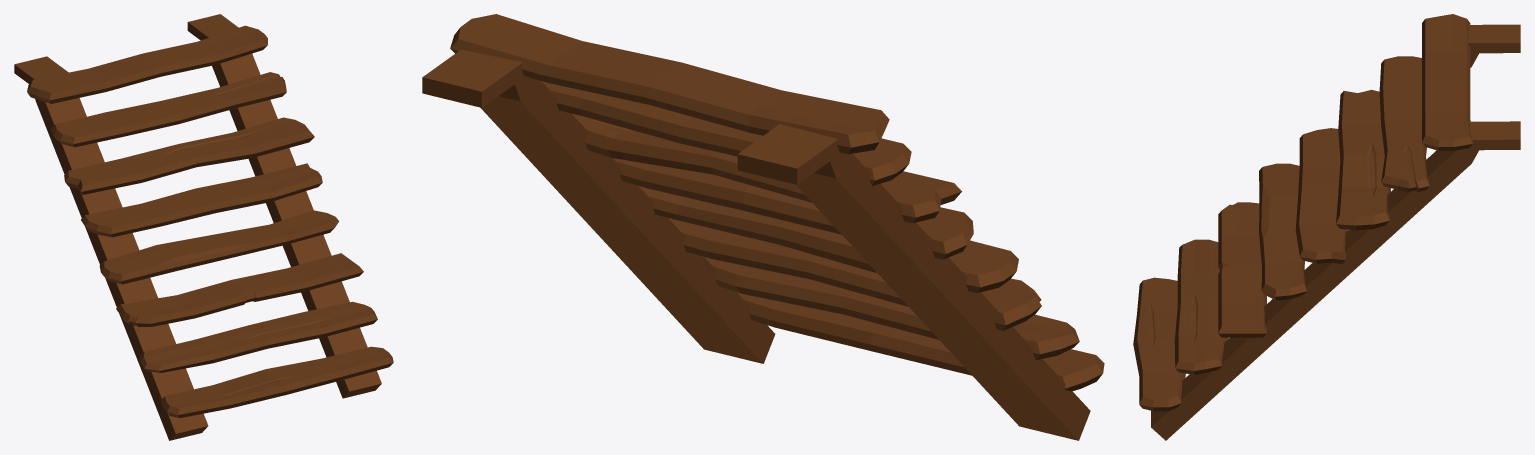
File: StairsWooden.fbx
3 renders of one model, left to right at view 1: azimuth 30°, elevation 25°; view 2: azimuth 150°, elevation 25°; view 3: azimuth 270°, elevation 25°, orthographic. The views are drawn at different scales.
Visible parts, largest first — view 1: StairsPlanks, StairsConstructionAngleBeams; view 2: StairsPlanks, StairsConstructionAngleBeams; view 3: StairsPlanks, StairsConstructionAngleBeams.
Boxes of the visible parts, x1=… form: StairsPlanks: x1=27, y1=25, x2=393, y2=418; StairsConstructionAngleBeams: x1=14, y1=14, x2=381, y2=440; StairsPlanks: x1=450, y1=14, x2=1104, y2=391; StairsConstructionAngleBeams: x1=422, y1=49, x2=1090, y2=440; StairsPlanks: x1=1133, y1=14, x2=1472, y2=411; StairsConstructionAngleBeams: x1=1151, y1=24, x2=1520, y2=440.
Bounding box in the file's own units: 430 × 460 × 528.
